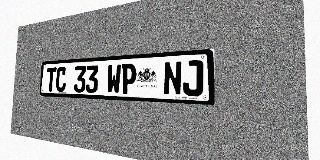3: (85, 65, 98, 93), (74, 66, 86, 93)
C: (55, 67, 67, 92)
J: (182, 60, 203, 96)
N: (163, 61, 182, 96)
P: (121, 63, 136, 94)
T: (46, 67, 56, 92)
W: (107, 64, 121, 94)
